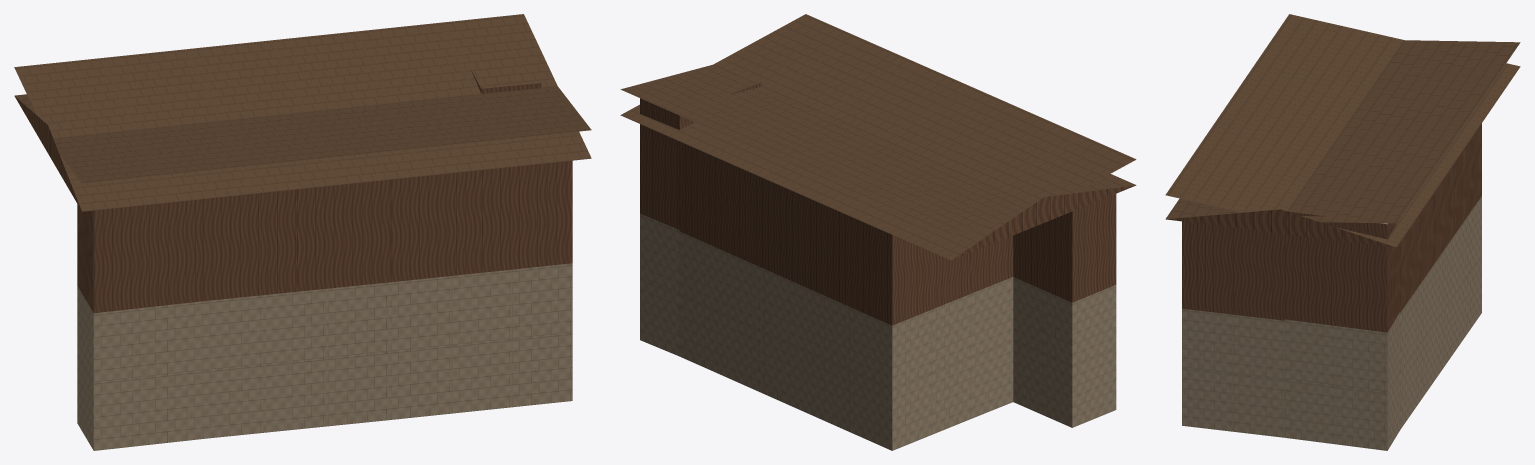
Rendered from bld_c9_40_503.gltf.
The picture shows the model from 3 angles, left to right: view 1: azimuth 30°, elevation 25°; view 2: azimuth 150°, elevation 25°; view 3: azimuth 270°, elevation 25°; orthographic projection. The views are drawn at different scales.
Parts seen in each view (by area): view 1: bld_c9_40_503; view 2: bld_c9_40_503; view 3: bld_c9_40_503.
Part boxes in pixels (x1,y1,x2,y2): bld_c9_40_503: (14, 14, 591, 450); bld_c9_40_503: (620, 14, 1136, 450); bld_c9_40_503: (1165, 14, 1520, 450).
Bounding box in the file's own units: 18.6 × 9.7 × 13.33.
Materials: 5 (5 with a texture image).
